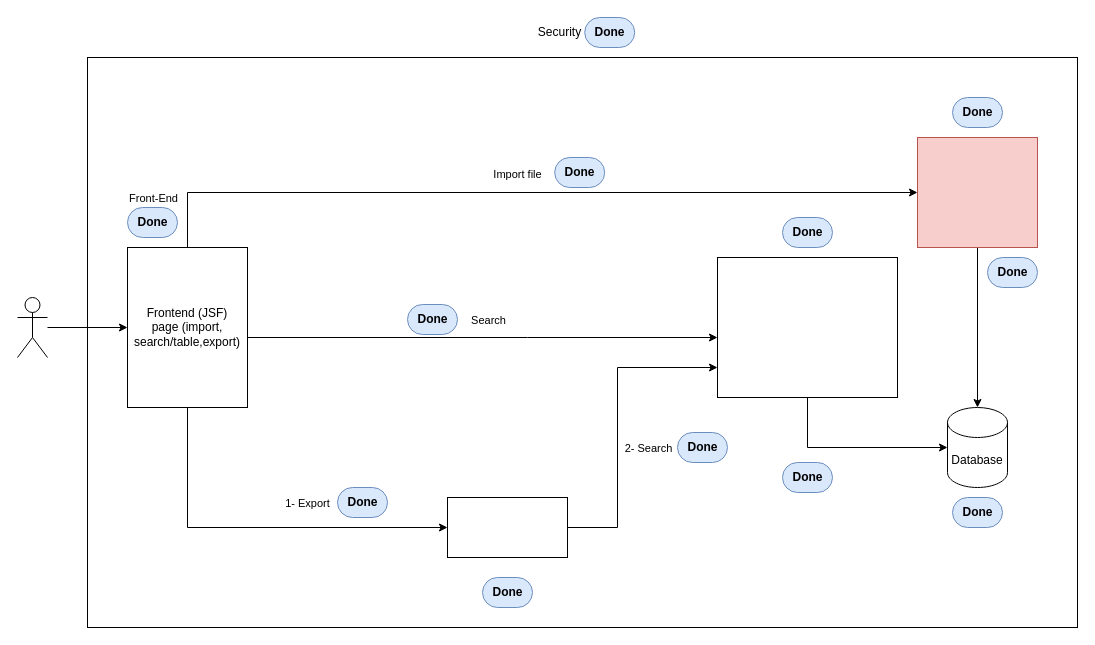
Some shapes in this 1095 by 645 pixel diagram are drawn without their labels. The centre of each missing label's shape, as x and y in pixels:
"Actor" goes at (x=32, y=327).
"Export endpoints(export)" goes at (x=507, y=527).
"Importing endpoints(importFile)" goes at (x=977, y=192).
"Search 1- endpoints(search (parameters(searchCriterias))) 2- Repository (JPA)" goes at (x=807, y=327).
